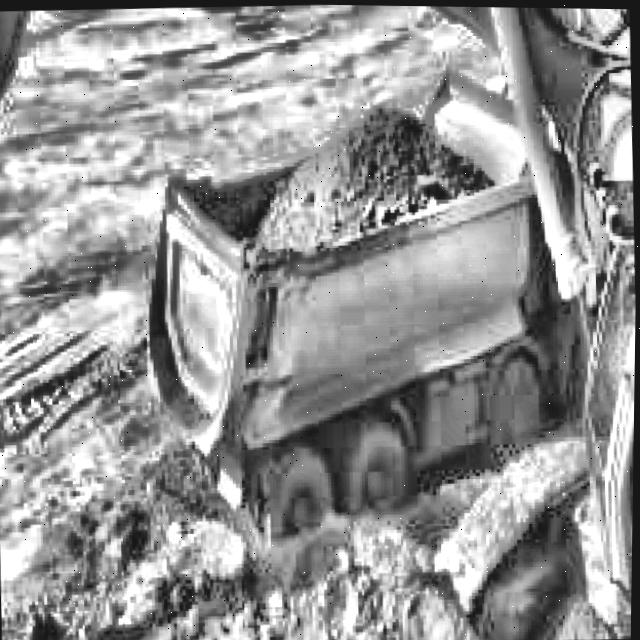dump_truck: (141, 62, 598, 531)
excavator: (0, 0, 640, 640)
